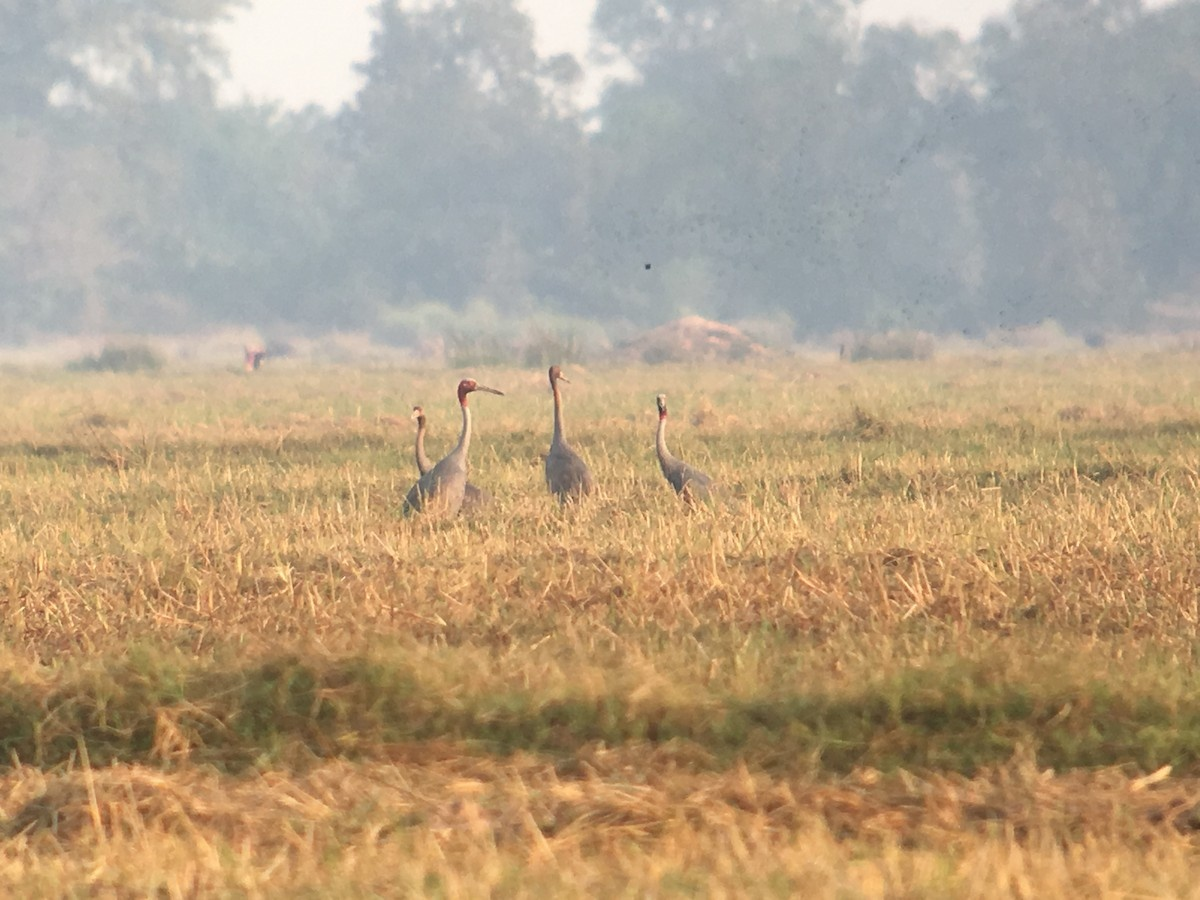crane: (418, 374, 513, 533), (542, 365, 599, 496), (644, 382, 703, 492), (406, 396, 437, 474)
